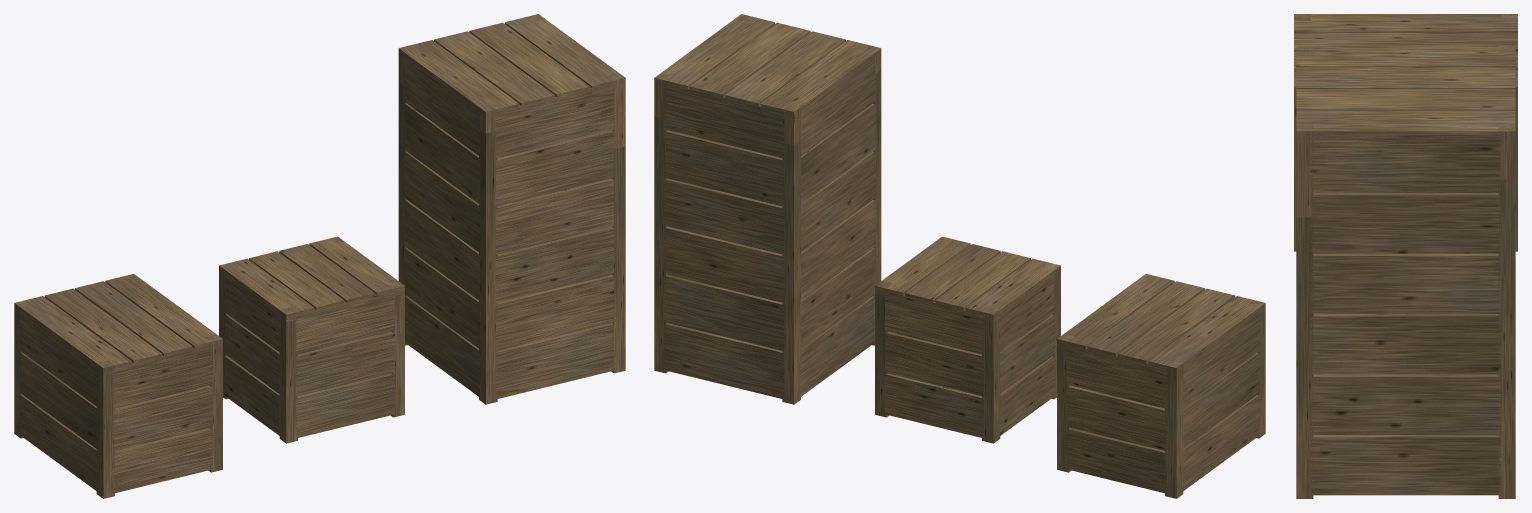
File: casse.glb
3 renders of one model, left to right at view 1: azimuth 30°, elevation 25°; view 2: azimuth 150°, elevation 25°; view 3: azimuth 270°, elevation 25°, orthographic. The views are drawn at different scales.
Parts seen in each view (by area): view 1: crates; view 2: crates; view 3: crates.
Part boxes in pixels (x1,y1,x2,y2): crates: (14, 14, 625, 498); crates: (654, 14, 1265, 498); crates: (1294, 14, 1517, 498).
Bounding box in the file's own units: 1.16 × 0.622 × 0.343.
Materials: 1 (1 with a texture image).
